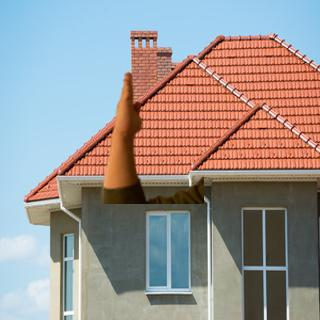RIGHT: (109, 69, 146, 142)
